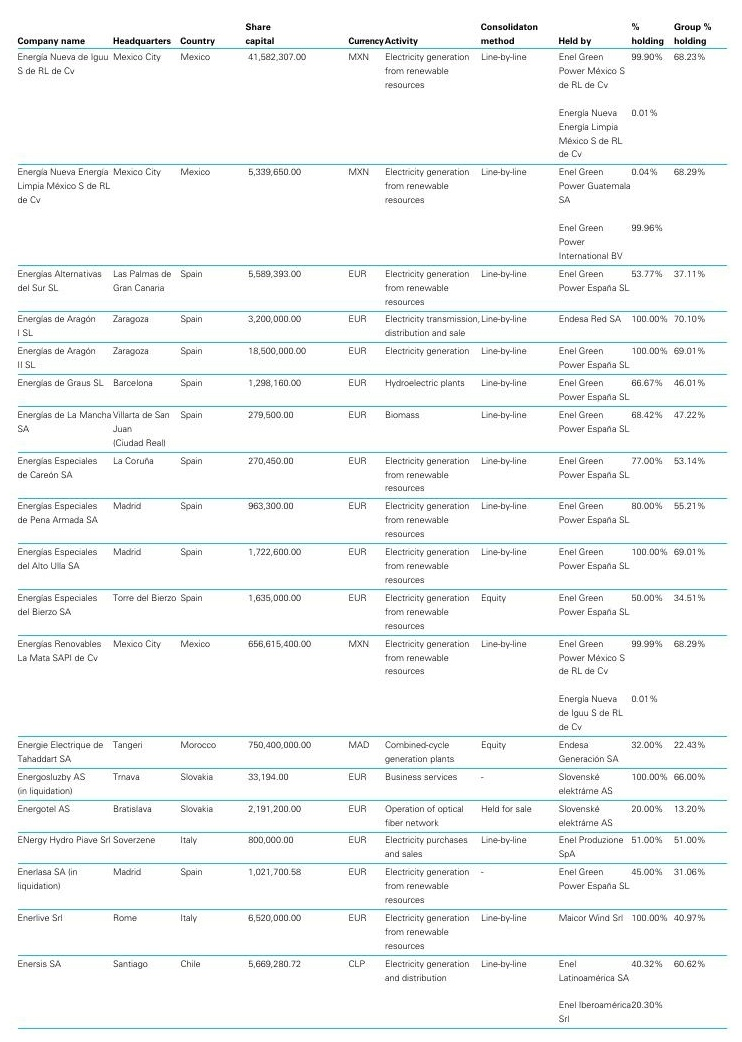table: (0, 0, 742, 1042)
